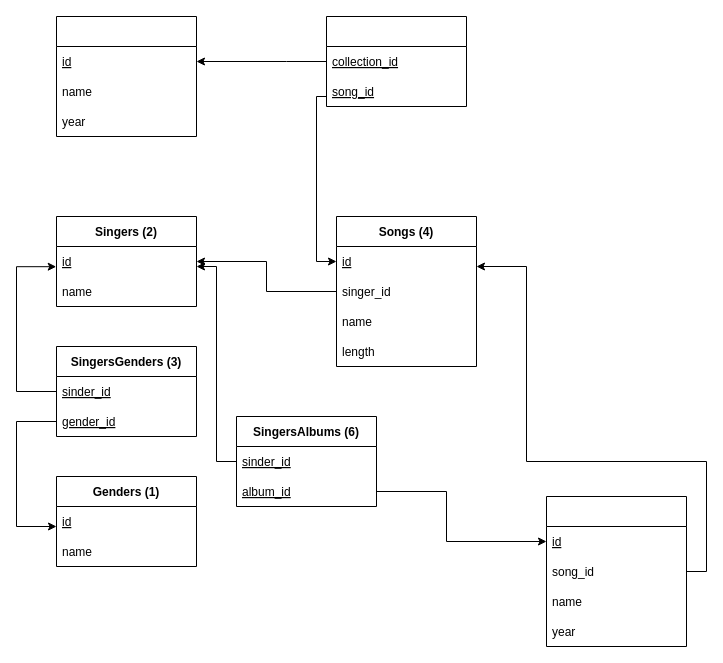
This 723x663 diagram has some shape labels left out. Here are the shapes that lost their labels. From the top down, the box of each, then its label:
(56, 16, 196, 136): Collections (7)
(326, 16, 466, 106): CollectionsSongs (8)
(546, 496, 686, 646): Albums (5)
